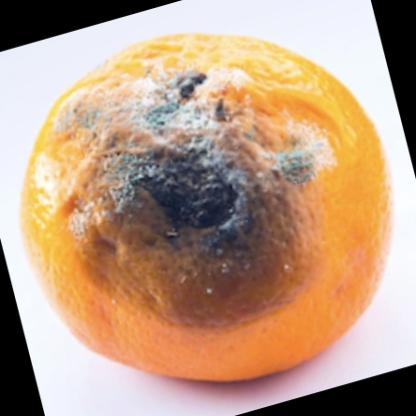rotten: (19, 33, 392, 375)
